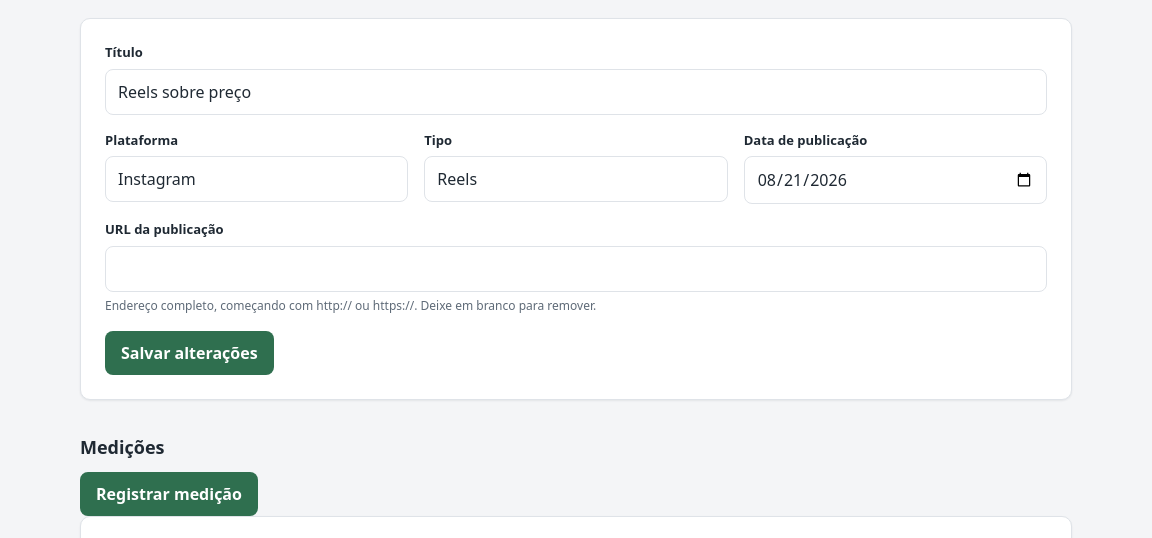
Test case: ConteudoDetalhe › a linha armada desarma quando a lista recarrega
The image size is (1152, 538).
Click the button "Registrar medição" at x=169, y=494, box [80,472,258,516]
(page scrolled)
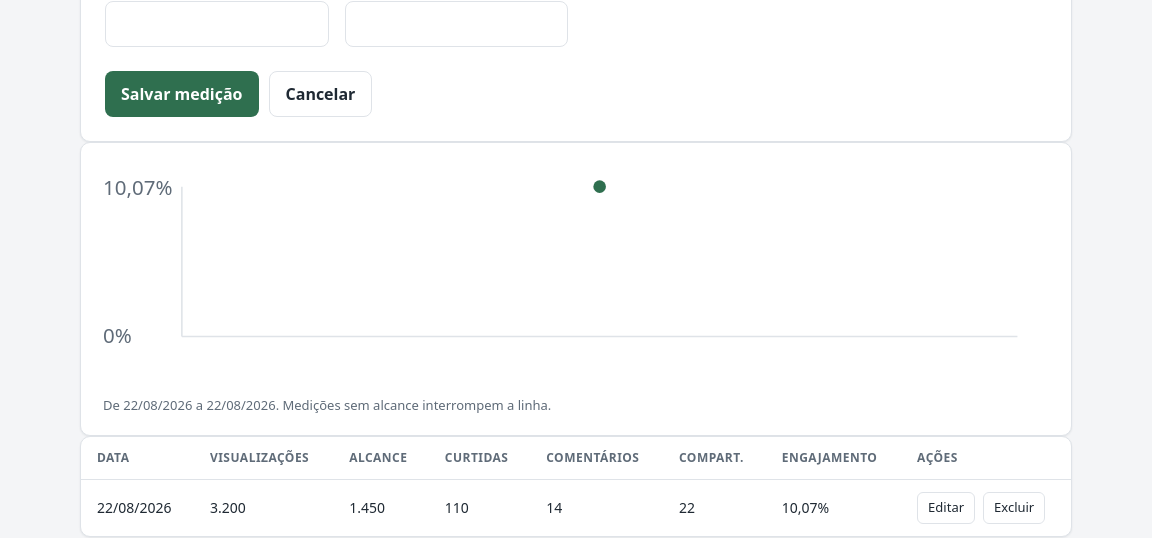
Click the button "Excluir" at x=1014, y=508, box [983,492,1045,524]
(page scrolled)
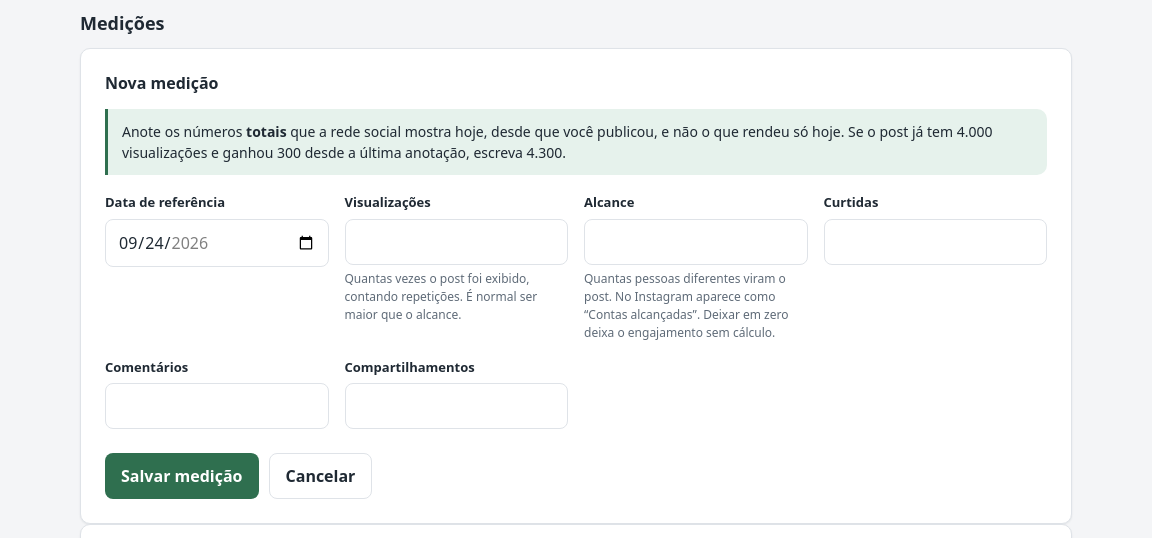
Type "3200" into the number field labelled "Visualizações" at x=456, y=242, box [344,218,568,264]
Type "1450" into the number field labelled "Alcance" at x=696, y=242, box [584,218,808,264]
Type "110" into the number field labelled "Curtidas" at x=935, y=242, box [824,218,1047,264]
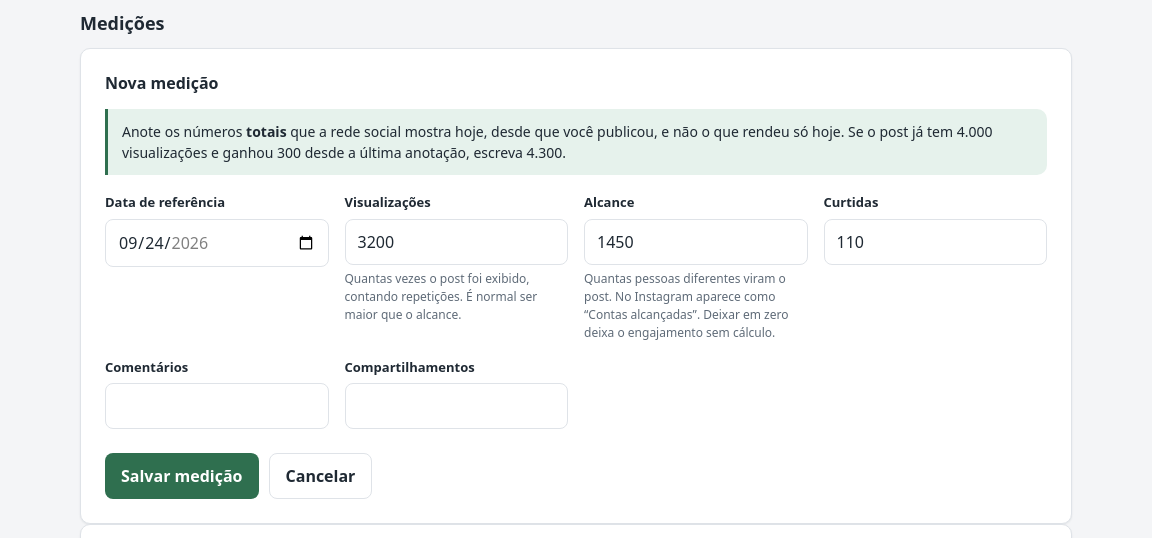
Type "14" into the number field labelled "Comentários" at x=217, y=406, box [105,383,328,429]
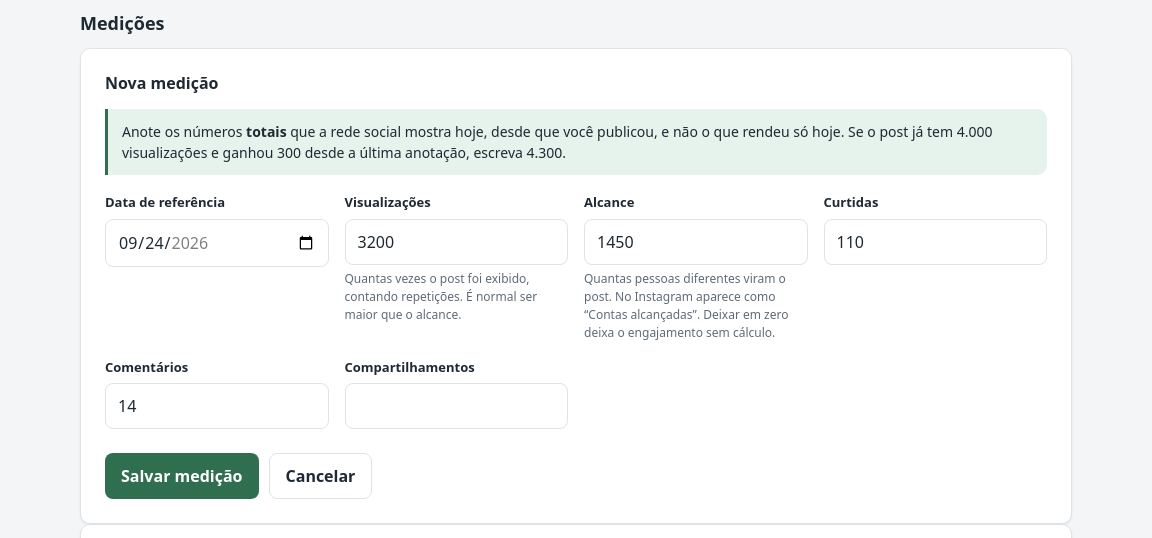
Type "22" into the number field labelled "Compartilhamentos" at x=456, y=406, box [344,383,568,429]
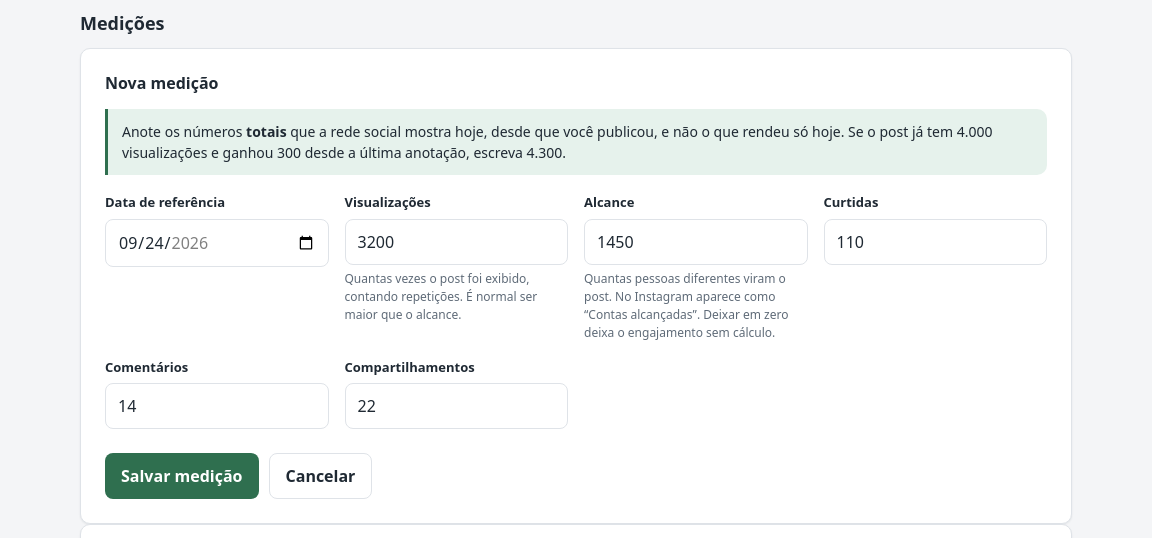
Click the button "Salvar medição" at x=182, y=476, box [105,453,258,499]
(page scrolled)
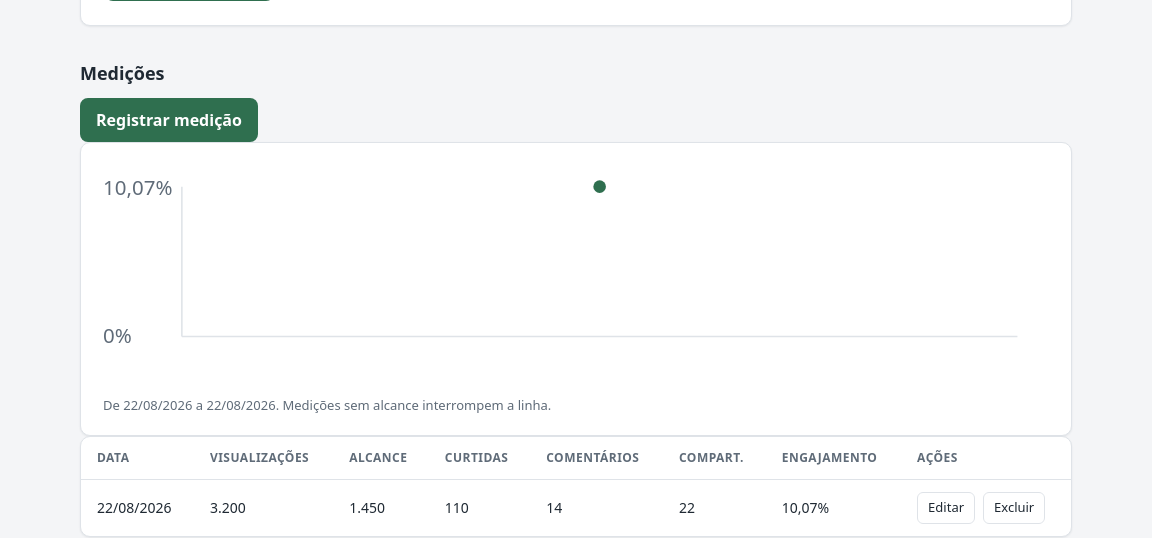
Now the button "Excluir" is shown, box [983,492,1045,524]
